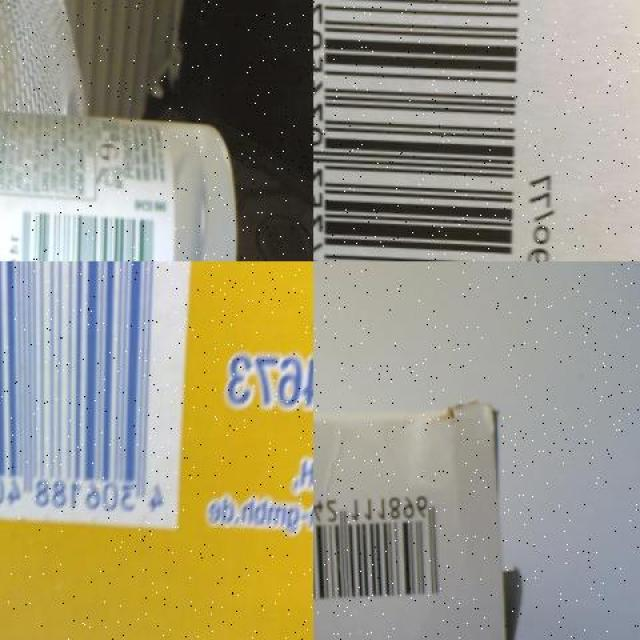Barcode: (313, 0, 633, 261), (0, 261, 193, 525), (314, 459, 462, 632), (7, 203, 169, 261)
